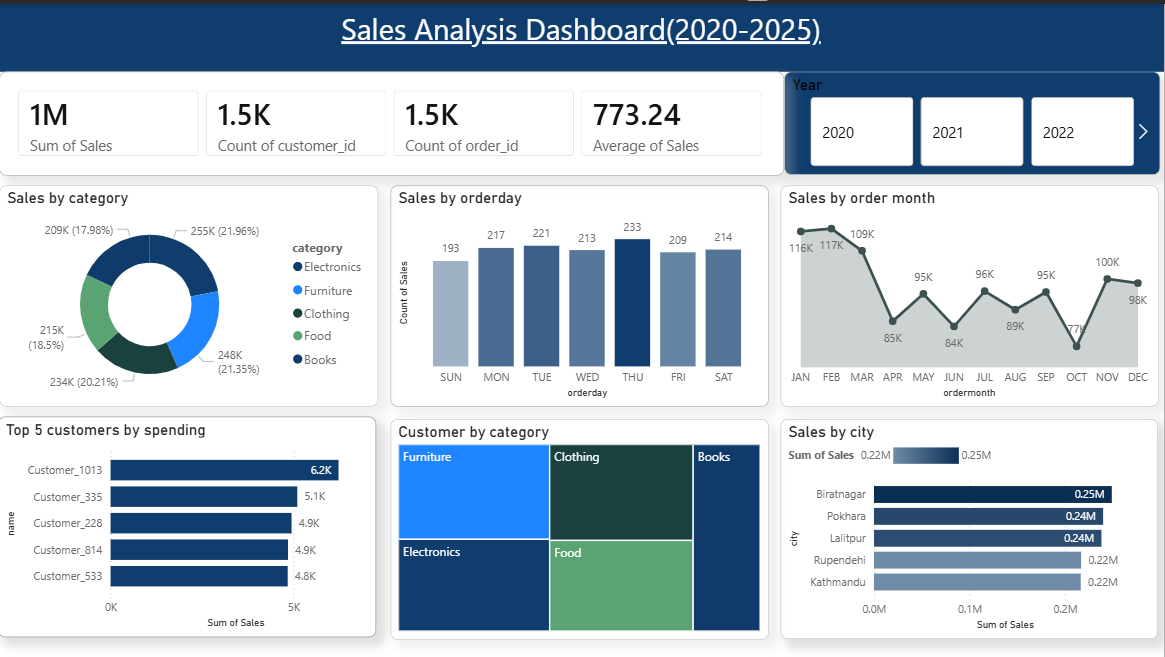

This screenshot's page, from the dashboard's own definition file:
{"tool":"powerbi","page":{"name":"Page 1","canvas":[1280,720],"ordinal":0},"visuals":[{"type":"clusteredColumnChart","title":" Sales by orderday","fields":{"Y":["CountNonNull(orders.Sales)"],"Category":["orders.orderday"]},"box":[430.6,198.8,415,242.9],"z":0},{"type":"advancedSlicerVisual","title":"Year","fields":{"Values":["customers.Year"]},"box":[863.1,74.1,413,113.9],"z":1000},{"type":"areaChart","title":" Sales by order month","fields":{"Category":["orders.ordermonth"],"Y":["Sum(orders.Sales)"]},"box":[859,199,415,242.9],"z":2000},{"type":"textbox","box":[0,0,1280,74.6],"z":3000},{"type":"cardVisual","fields":{"Data":["Sum(orders.Sales)","CountNonNull(orders.customer_id)","CountNonNull(orders.order_id)","Avg(orders.Sales)"]},"box":[1.4,74.3,861.4,114.3],"z":4000},{"type":"clusteredBarChart","title":" Sales by city","fields":{"Category":["customers.city"],"Y":["Sum(orders.Sales)"]},"box":[859,455.6,414.4,241.5],"z":5000},{"type":"donutChart","title":"Sales by category","fields":{"Category":["products.category"],"Y":["Sum(orders.Sales)"]},"box":[1.4,198.6,415.7,242.9],"z":6000},{"type":"treemap","title":"Customer by category","fields":{"Group":["products.category"],"Values":["Count(orders.customer_id)"]},"box":[431.4,454.9,415,242],"z":7000},{"type":"clusteredBarChart","title":"Top 5 customers by spending","fields":{"Category":["customers.name"],"Y":["Sum(orders.Sales)"]},"box":[0,452.8,415,242],"z":8000}]}

Visuals, with their boxes in screenshot pixels (x1, y1, x2, y2), scaled from the page's 1280x720 canvas onto the 1165x657 screenshot:
" Sales by orderday" clusteredColumnChart: detection(392, 181, 770, 403)
"Year" advancedSlicerVisual: detection(786, 68, 1161, 172)
" Sales by order month" areaChart: detection(782, 182, 1160, 403)
textbox: detection(0, 0, 1164, 68)
cardVisual - Sum(orders.Sales) x CountNonNull(orders.customer_id): detection(1, 68, 785, 172)
" Sales by city" clusteredBarChart: detection(782, 416, 1159, 636)
"Sales by category" donutChart: detection(1, 181, 380, 403)
"Customer by category" treemap: detection(393, 415, 770, 636)
"Top 5 customers by spending" clusteredBarChart: detection(0, 413, 378, 634)
